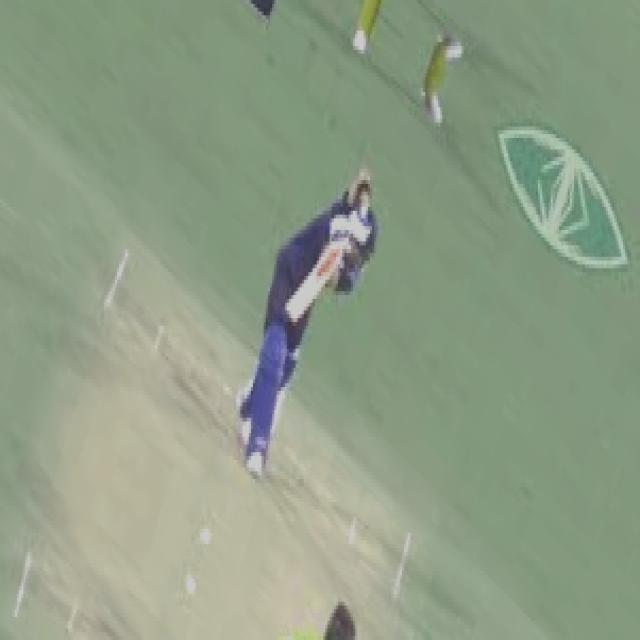bat: (276, 235, 345, 337)
toe: (276, 298, 296, 328)
